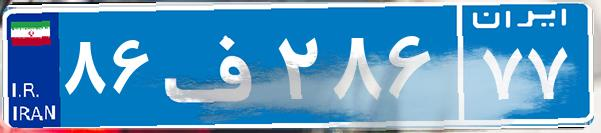2: (273, 28, 330, 110)
6: (385, 28, 445, 110), (110, 28, 158, 105)
7: (475, 38, 525, 113), (525, 38, 570, 115)
8: (330, 28, 385, 110), (57, 26, 110, 107)
ف: (158, 15, 273, 115)
